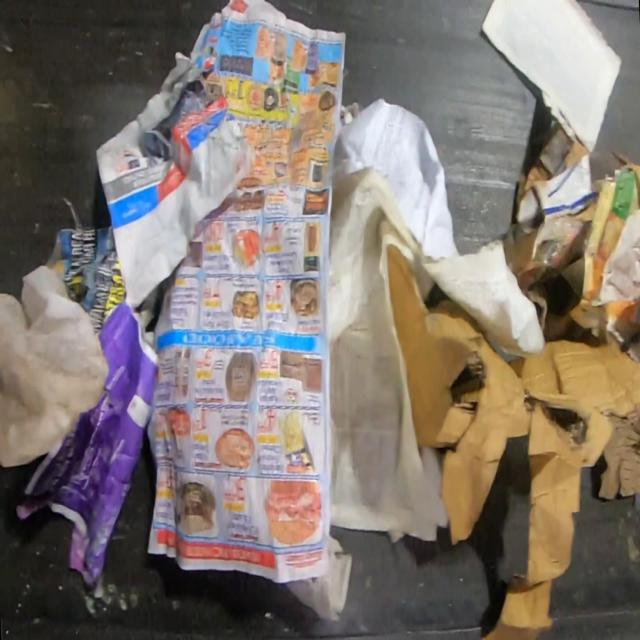cardboard: (387, 244, 640, 639), (601, 405, 640, 501), (588, 150, 640, 212), (563, 135, 589, 170)
soft_plastic: (0, 258, 110, 468)
